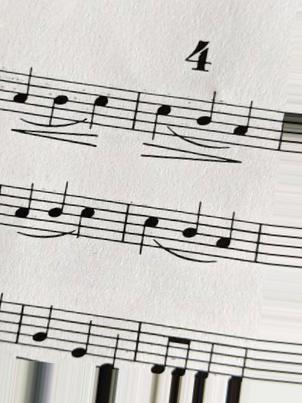note: (210, 210, 238, 264), (44, 177, 72, 231), (44, 72, 70, 129), (68, 309, 97, 360), (229, 96, 255, 151), (146, 94, 175, 143), (8, 64, 33, 118), (179, 200, 204, 254), (28, 304, 58, 349), (194, 90, 218, 146), (135, 204, 160, 256), (86, 82, 111, 133), (73, 196, 98, 244), (13, 177, 35, 231)
